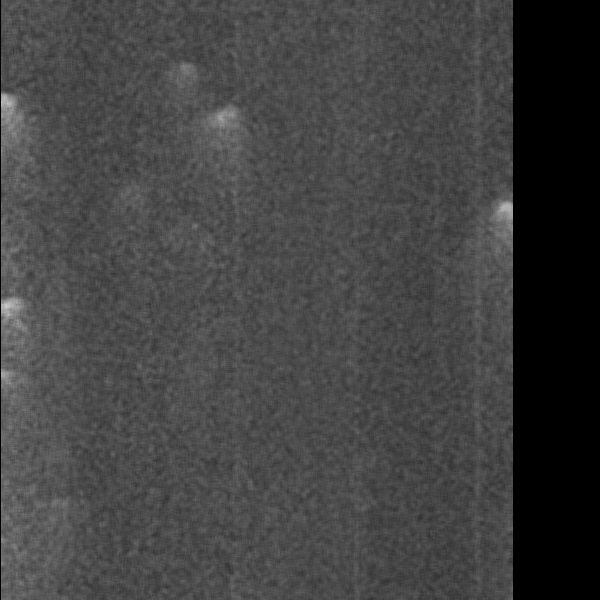spark: (147, 251, 212, 289), (284, 540, 331, 584)
